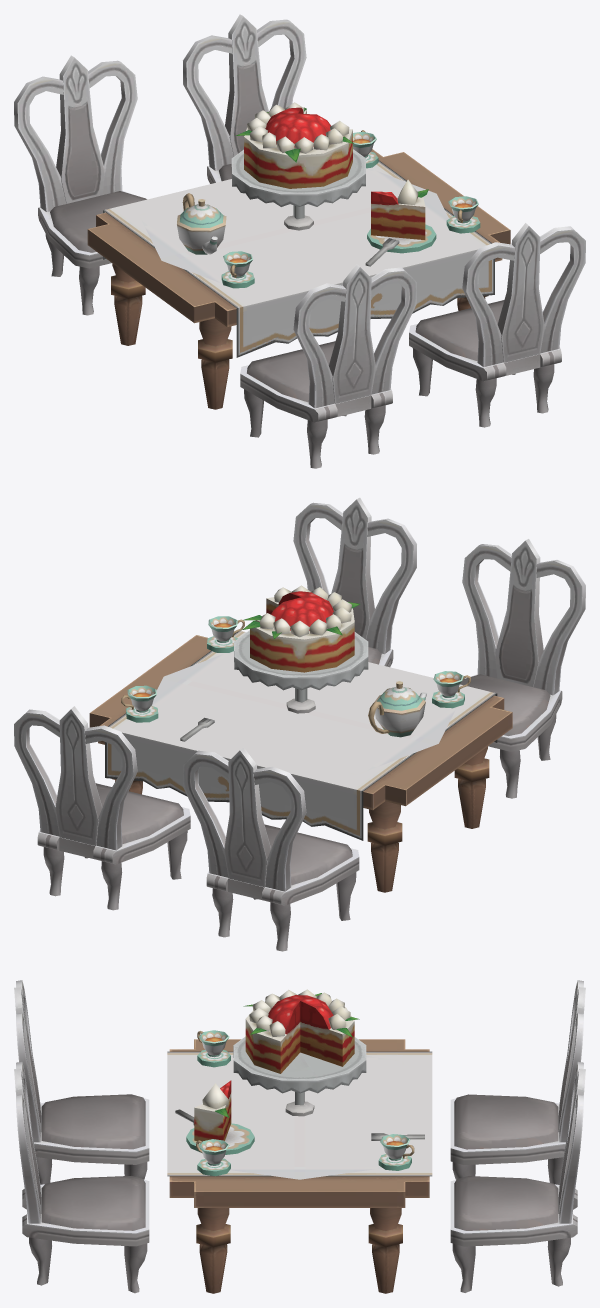
The model's file is my_teaparty_01_table_04.glb.
3 views of the same model, one above another, from view 1: azimuth 30°, elevation 25°; view 2: azimuth 150°, elevation 25°; view 3: azimuth 270°, elevation 25° (orthographic).
Parts seen in each view (by area): view 1: my_teaparty_01_table_04; view 2: my_teaparty_01_table_04; view 3: my_teaparty_01_table_04.
Boxes of the visible parts, <box> form: my_teaparty_01_table_04: <box>14,14,585,468</box>; my_teaparty_01_table_04: <box>14,497,585,951</box>; my_teaparty_01_table_04: <box>14,980,585,1293</box>.
Bounding box in the file's own units: 0.0113 × 0.00781 × 0.0178.
Materials: 1 (1 with a texture image).
